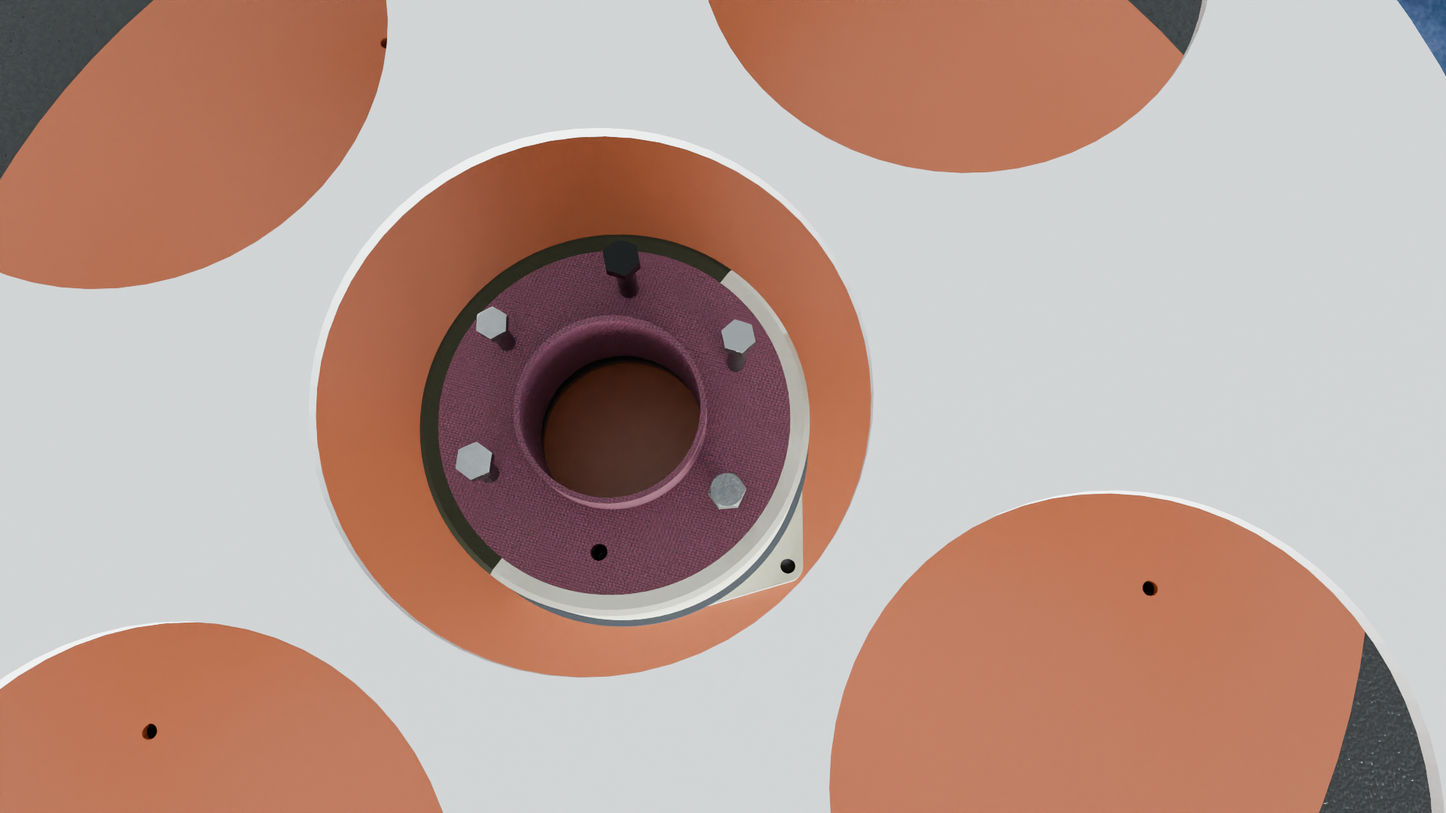bolt: (602, 239, 640, 276), (456, 442, 492, 480), (708, 473, 746, 507), (721, 319, 755, 353), (476, 306, 507, 339)
